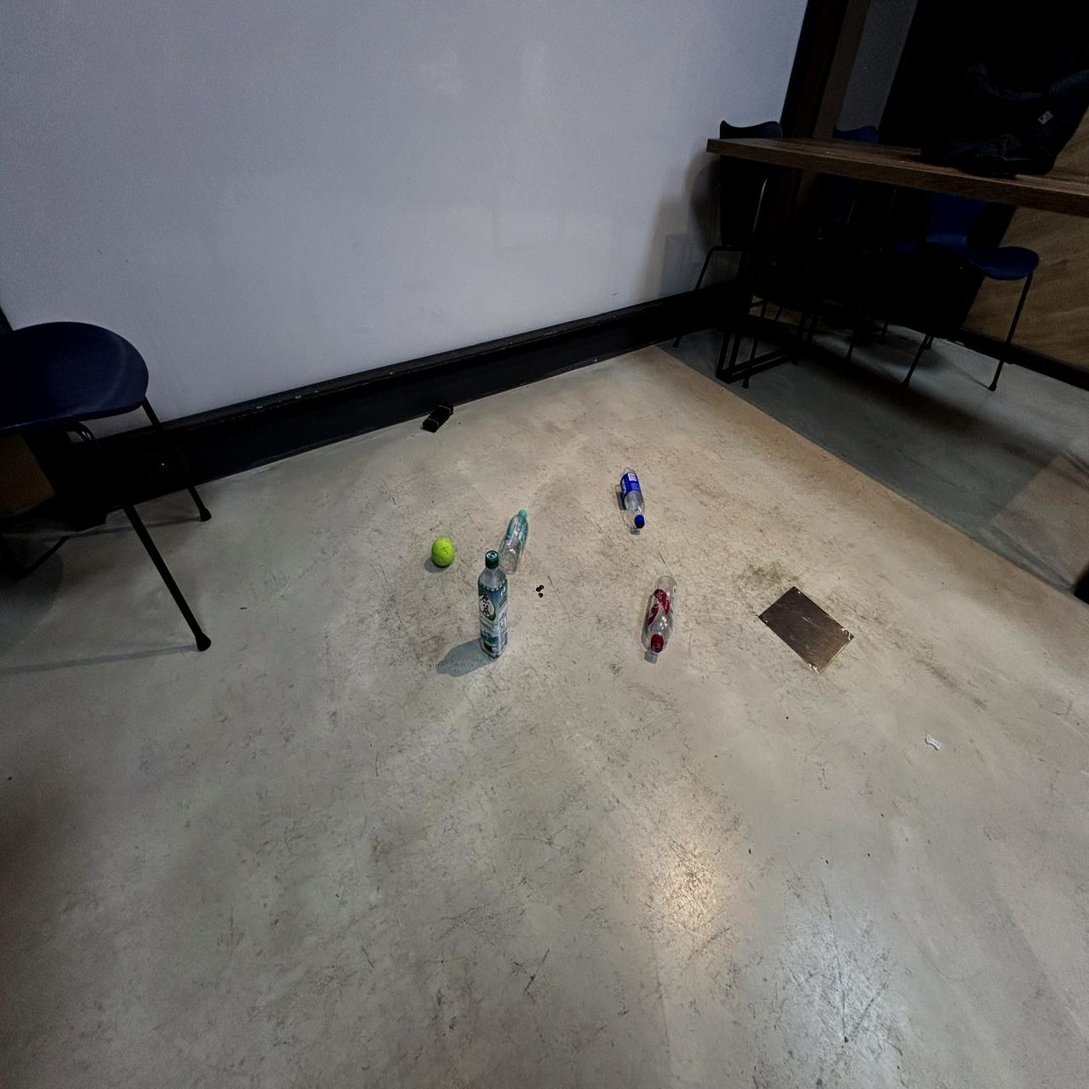plastic-bottle: (478, 551, 507, 657)
tennisball: (431, 538, 454, 567)
